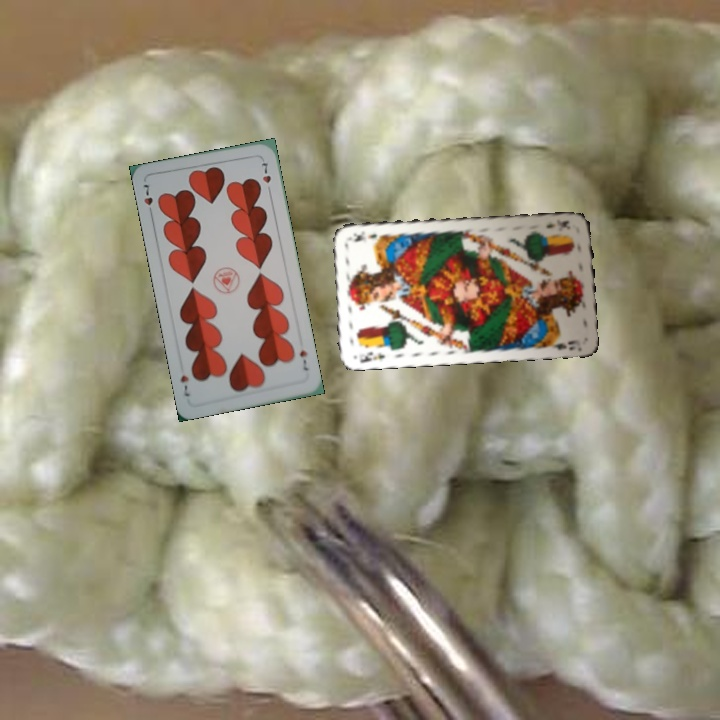EK: (356, 348, 388, 365), (542, 216, 573, 232)
H7: (139, 180, 155, 218), (295, 346, 311, 373)
